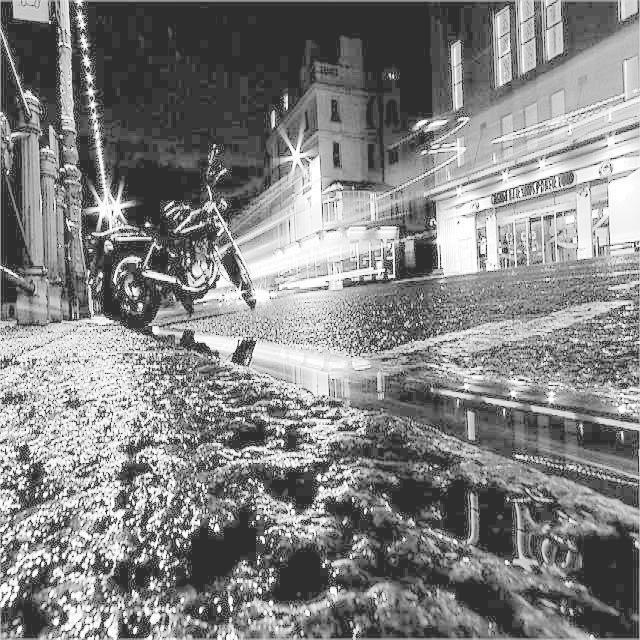Motorcycle: (75, 145, 244, 384)
